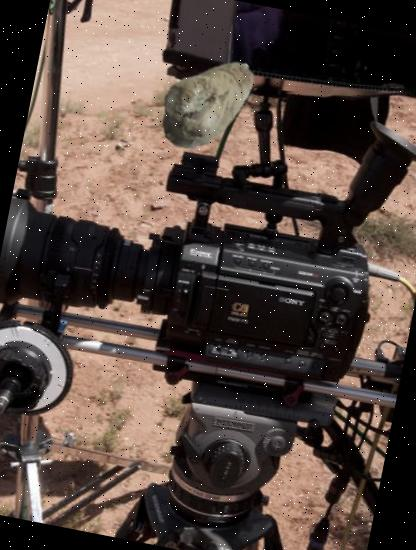Ginger: (141, 36, 270, 165)
